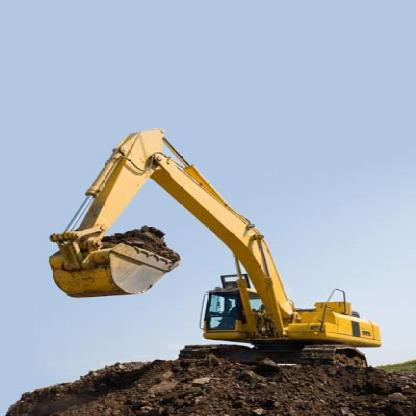excavator: (39, 123, 404, 391)
